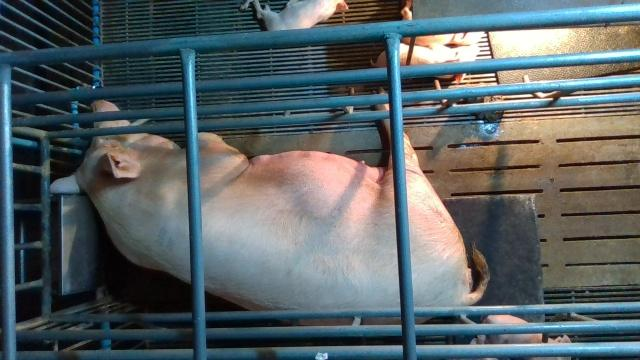piglet: (471, 314, 572, 360), (371, 42, 479, 84), (257, 0, 348, 31)
sow-sleep: (49, 88, 491, 327)
